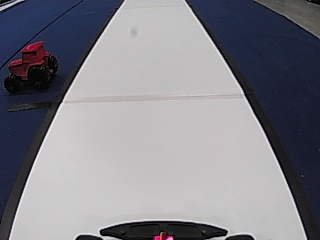Tracktor: (5, 39, 62, 93)
